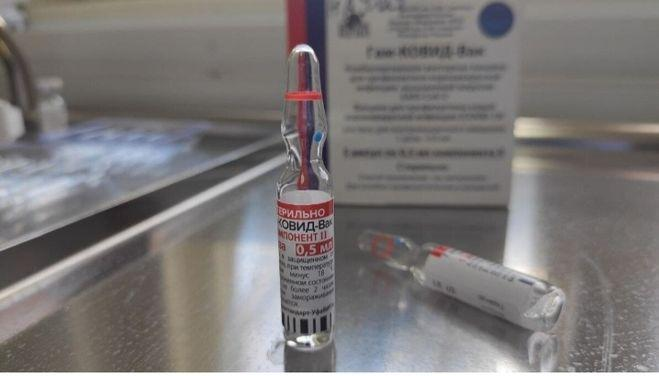Syringe: (262, 28, 354, 360), (366, 222, 575, 346)
